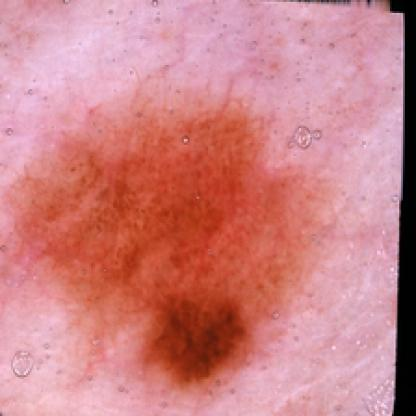malignant: (28, 115, 306, 385)
